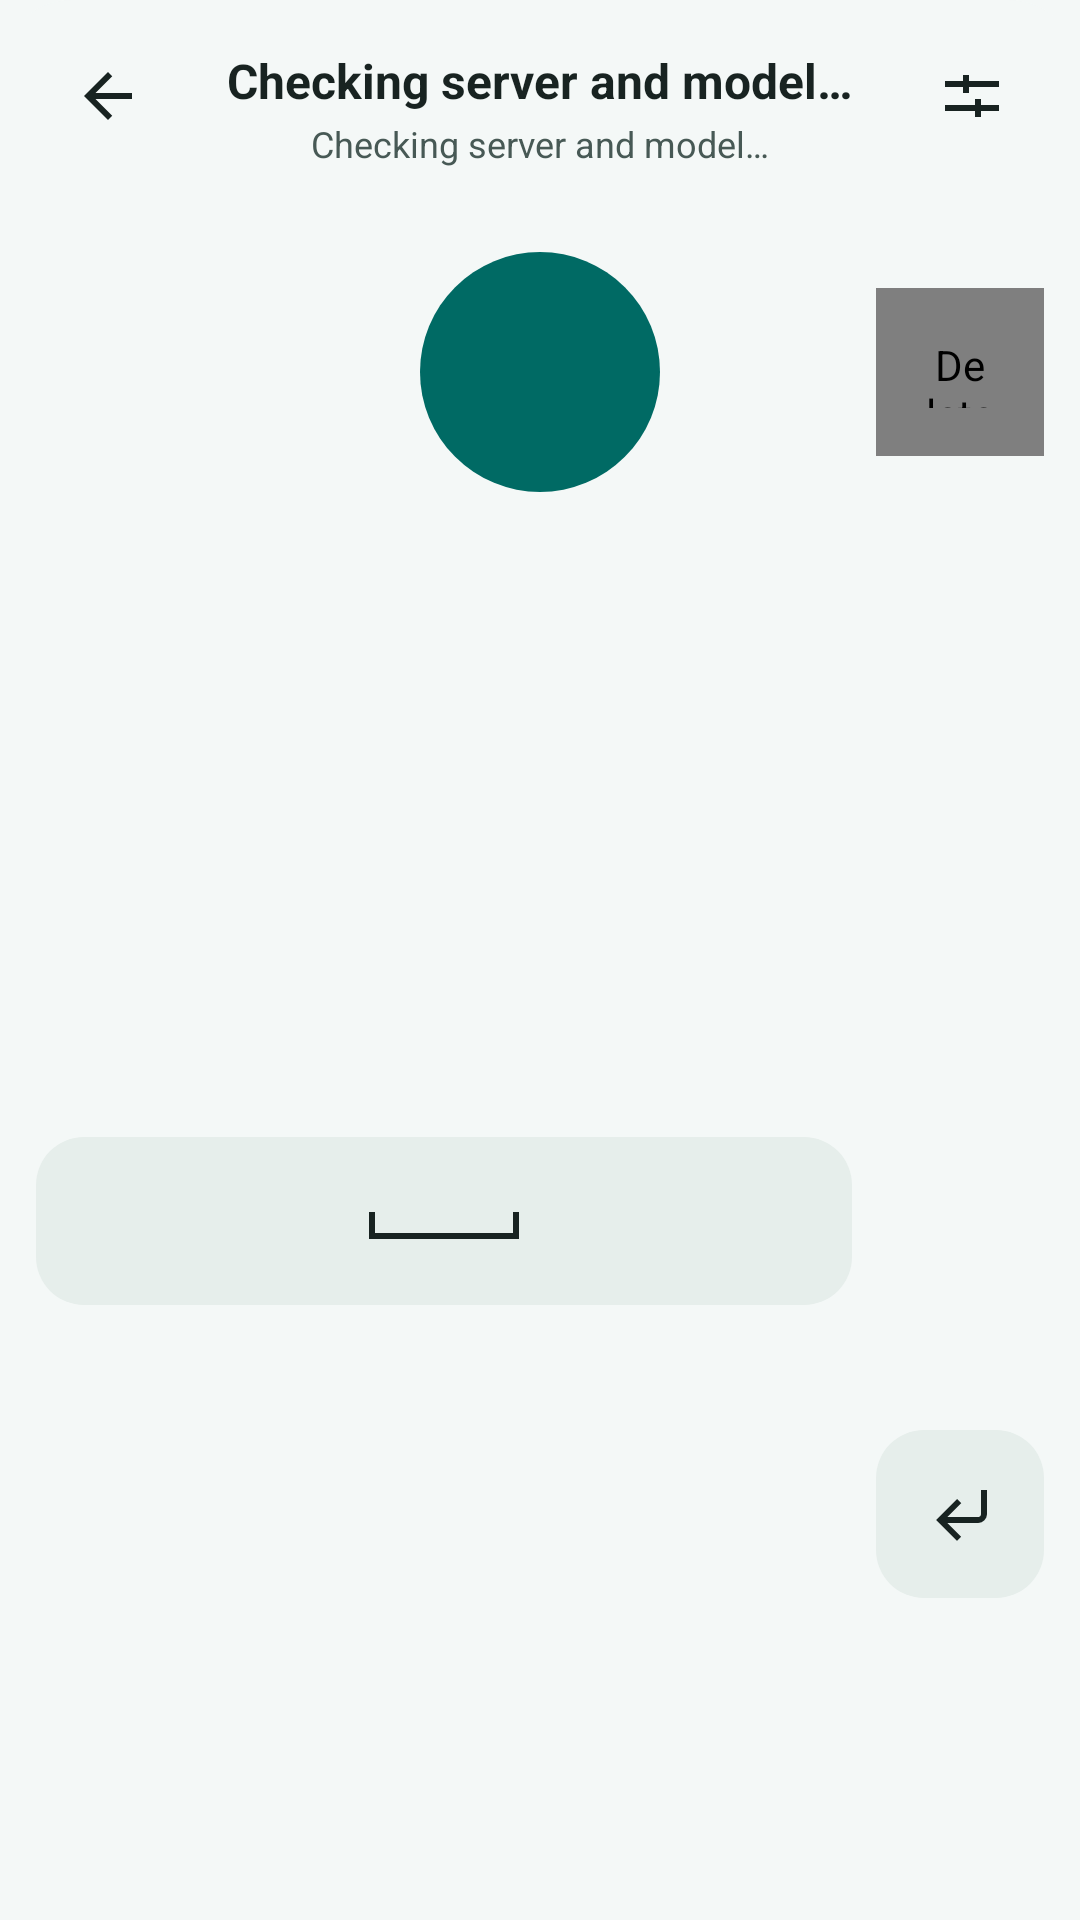

Icons on this 1080 × 1920 Android screen, each with the point to tap as [x,y]:
Back to typing keyboard: [108,96]
Enter: [960,1514]
Open dictation settings: [972,96]
